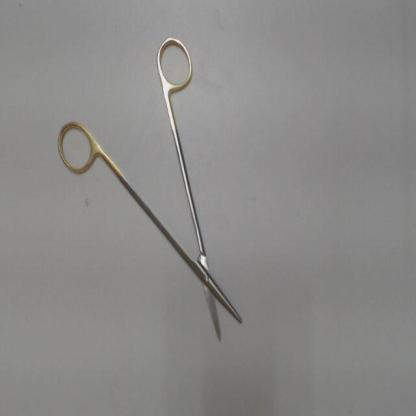7 Metzenbaum Scissors: (51, 30, 250, 350)
